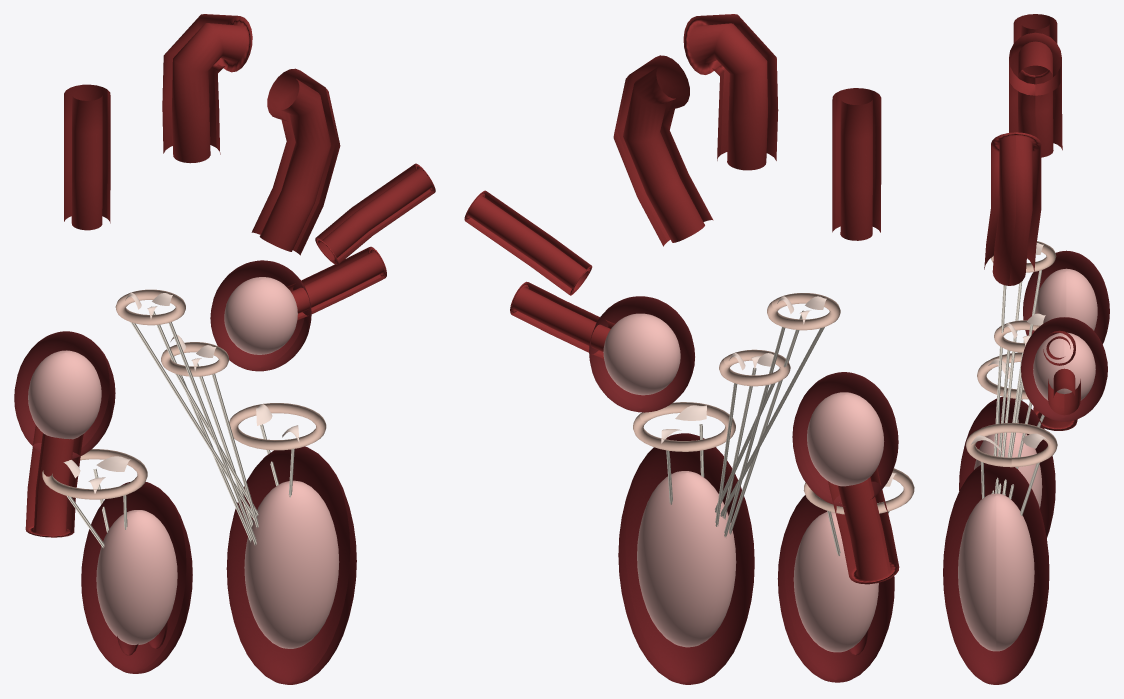
The model's file is heart_segmented_pulmonary_leaky.glb.
3 views of the same model, side by side, from view 1: azimuth 30°, elevation 25°; view 2: azimuth 150°, elevation 25°; view 3: azimuth 270°, elevation 25° (orthographic). The views are drawn at different scales.
Parts seen in each view (by area): view 1: WallLV, WallRV, PulmonaryTrunk, WallRA, Aorta, WallLA, SVC, PulmonaryVeinL, IVC, PulmonaryVeinR, AnnulusMitral, AnnulusTricuspid (+6 smaller); view 2: WallLV, WallRV, PulmonaryTrunk, WallRA, Aorta, WallLA, SVC, PulmonaryVeinL, IVC, PulmonaryVeinR, AnnulusMitral, AnnulusAortic (+5 smaller); view 3: WallLV, PulmonaryTrunk, WallLA, Aorta, WallRA, WallRV, AnnulusMitral, PulmonaryVeinR, SVC, AnnulusTricuspid, AnnulusPulmonary, ChordaeAortic2 (+7 smaller).
Boxes of the visible parts, left/top/right/bottom form: WallLV: left=226, top=446, right=356, bottom=684; WallRV: left=81, top=482, right=192, bottom=673; PulmonaryTrunk: left=251, top=68, right=340, bottom=255; WallRA: left=14, top=331, right=115, bottom=458; Aorta: left=162, top=14, right=252, bottom=163; WallLA: left=210, top=260, right=311, bottom=371; SVC: left=64, top=84, right=110, bottom=230; PulmonaryVeinL: left=315, top=163, right=435, bottom=264; IVC: left=25, top=425, right=83, bottom=537; PulmonaryVeinR: left=287, top=246, right=386, bottom=320; AnnulusMitral: left=229, top=403, right=326, bottom=450; AnnulusTricuspid: left=42, top=449, right=147, bottom=499; WallLV: left=618, top=433, right=754, bottom=684; WallRV: left=777, top=495, right=894, bottom=682; PulmonaryTrunk: left=613, top=55, right=713, bottom=246; WallRA: left=792, top=372, right=898, bottom=506; Aorta: left=683, top=14, right=778, bottom=170; WallLA: left=589, top=296, right=694, bottom=412; SVC: left=832, top=88, right=881, bottom=240; PulmonaryVeinL: left=464, top=190, right=592, bottom=295; IVC: left=828, top=468, right=899, bottom=584; PulmonaryVeinR: left=510, top=281, right=614, bottom=358; AnnulusMitral: left=633, top=402, right=735, bottom=451; AnnulusAortic: left=767, top=293, right=840, bottom=330; WallLV: left=943, top=463, right=1049, bottom=684; PulmonaryTrunk: left=984, top=132, right=1041, bottom=285; WallLA: left=1021, top=317, right=1107, bottom=421; Aorta: left=1009, top=32, right=1062, bottom=157; WallRA: left=1023, top=250, right=1109, bottom=343; WallRV: left=959, top=397, right=1055, bottom=537; AnnulusMitral: left=966, top=423, right=1057, bottom=467; PulmonaryVeinR: left=1048, top=368, right=1080, bottom=415; SVC: left=1013, top=14, right=1057, bottom=43; AnnulusTricuspid: left=977, top=352, right=1028, bottom=399; AnnulusPulmonary: left=994, top=320, right=1043, bottom=352; ChordaeAortic2: left=998, top=281, right=1022, bottom=493.
Bounding box in the file's own units: 0.0906 × 0.1416 × 0.0345.
Materials: 9 (3 with a texture image).
